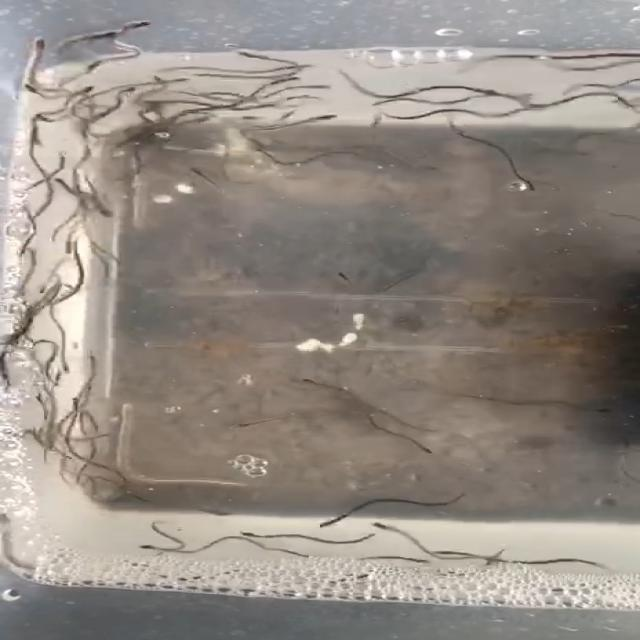inactive_glass_eel: (319, 507, 388, 543), (22, 36, 80, 72), (300, 106, 375, 133), (212, 414, 282, 442), (300, 258, 366, 287), (503, 170, 555, 205), (360, 515, 426, 541), (62, 20, 125, 44), (228, 520, 278, 546), (145, 71, 191, 98), (45, 351, 84, 381), (84, 55, 128, 78), (106, 88, 146, 111), (572, 403, 614, 423), (59, 235, 87, 262), (129, 537, 182, 551), (169, 162, 205, 182), (293, 371, 326, 392), (3, 81, 40, 99), (122, 16, 156, 35), (74, 82, 101, 98), (227, 46, 258, 58)
